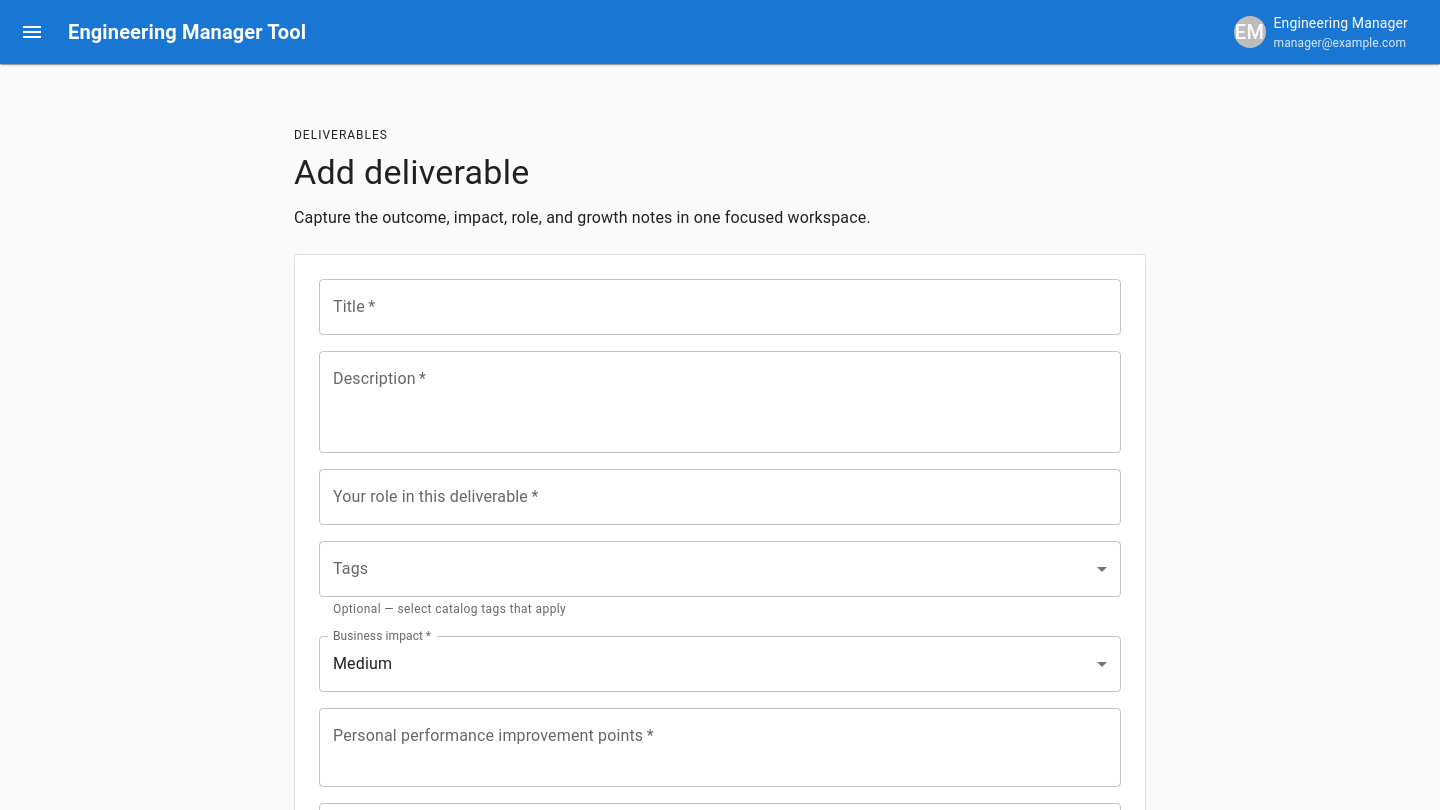
Test: US1 deliverable creation › submits create form and refreshes list
Check: the heading "Add deliverable" is shown, box 294,152 -> 530,192
Type "API redesign" into the field labelled "Title".
click(720, 307); type("API redesign")  # box 319,279 -> 1121,335
Type "Shipped new API" into the text box labelled "Description".
click(720, 402); type("Shipped new API")  # box 333,367 -> 1107,436
Type "Tech lead" into the field labelled "Your role in this deliverable".
click(720, 497); type("Tech lead")  # box 319,469 -> 1121,525
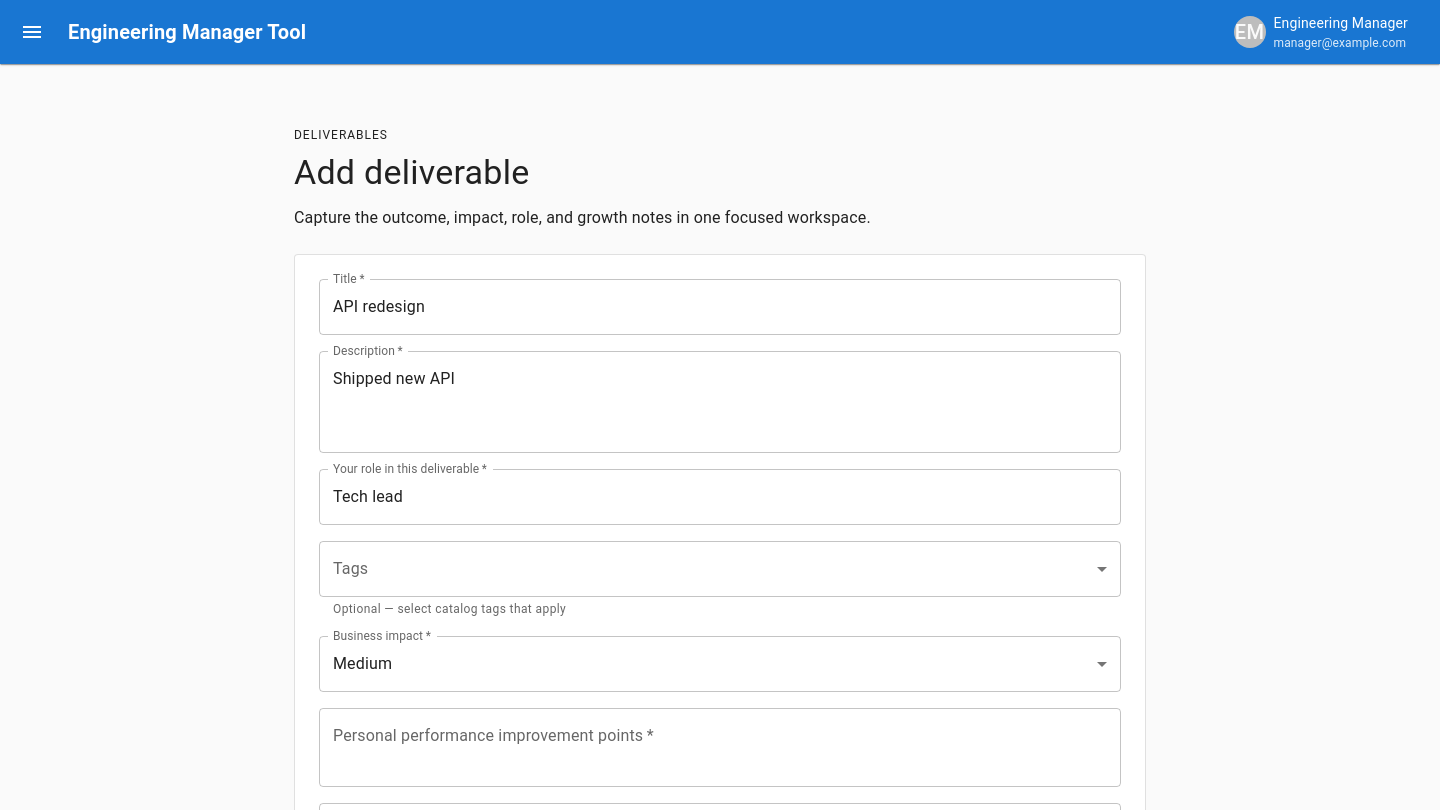
Type "Write more docs" into the text box labelled "Personal performance improvement points".
click(720, 747); type("Write more docs")  # box 333,724 -> 1107,770
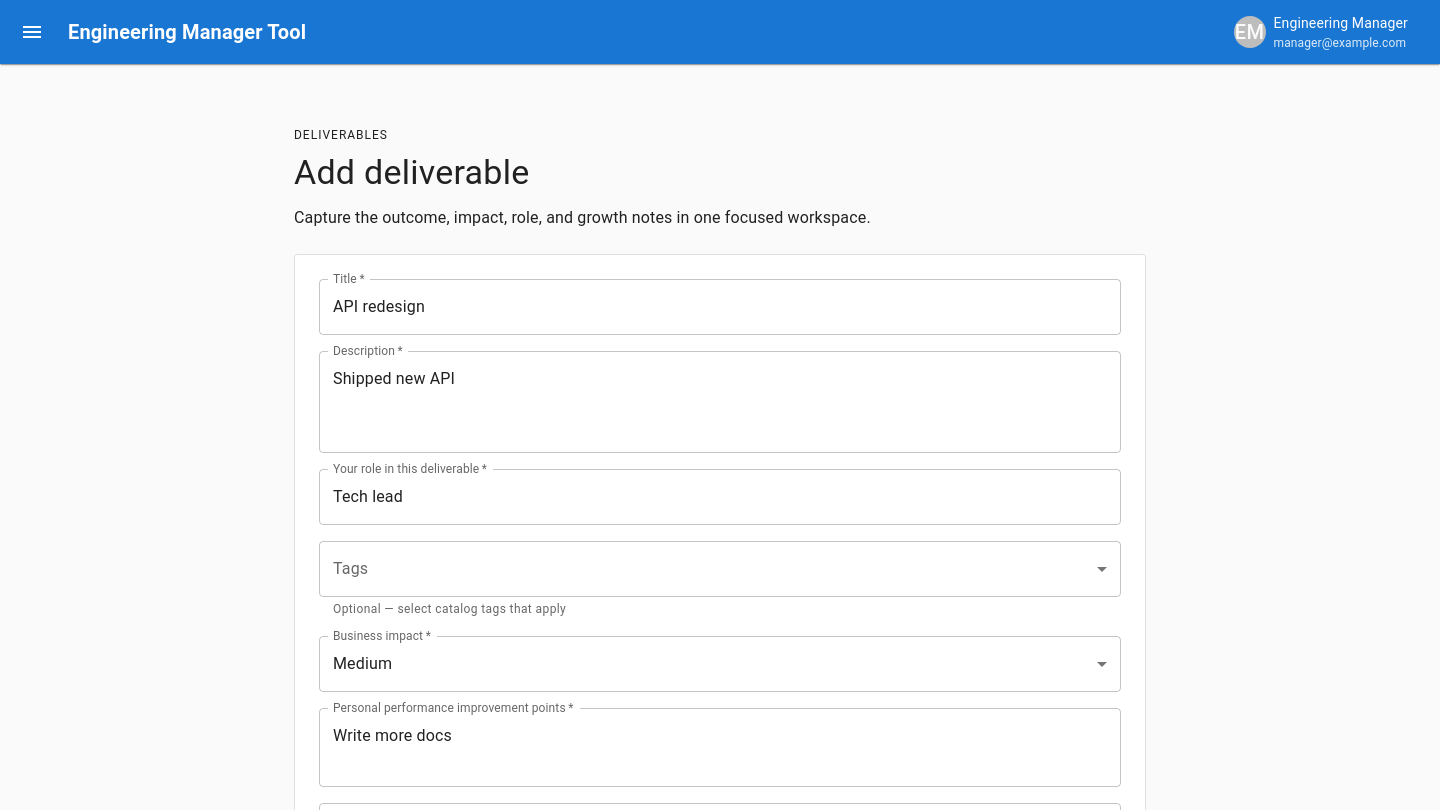
Press the mouse on the dropdown named "Tags" at (720, 569), box 319,541 -> 1121,597
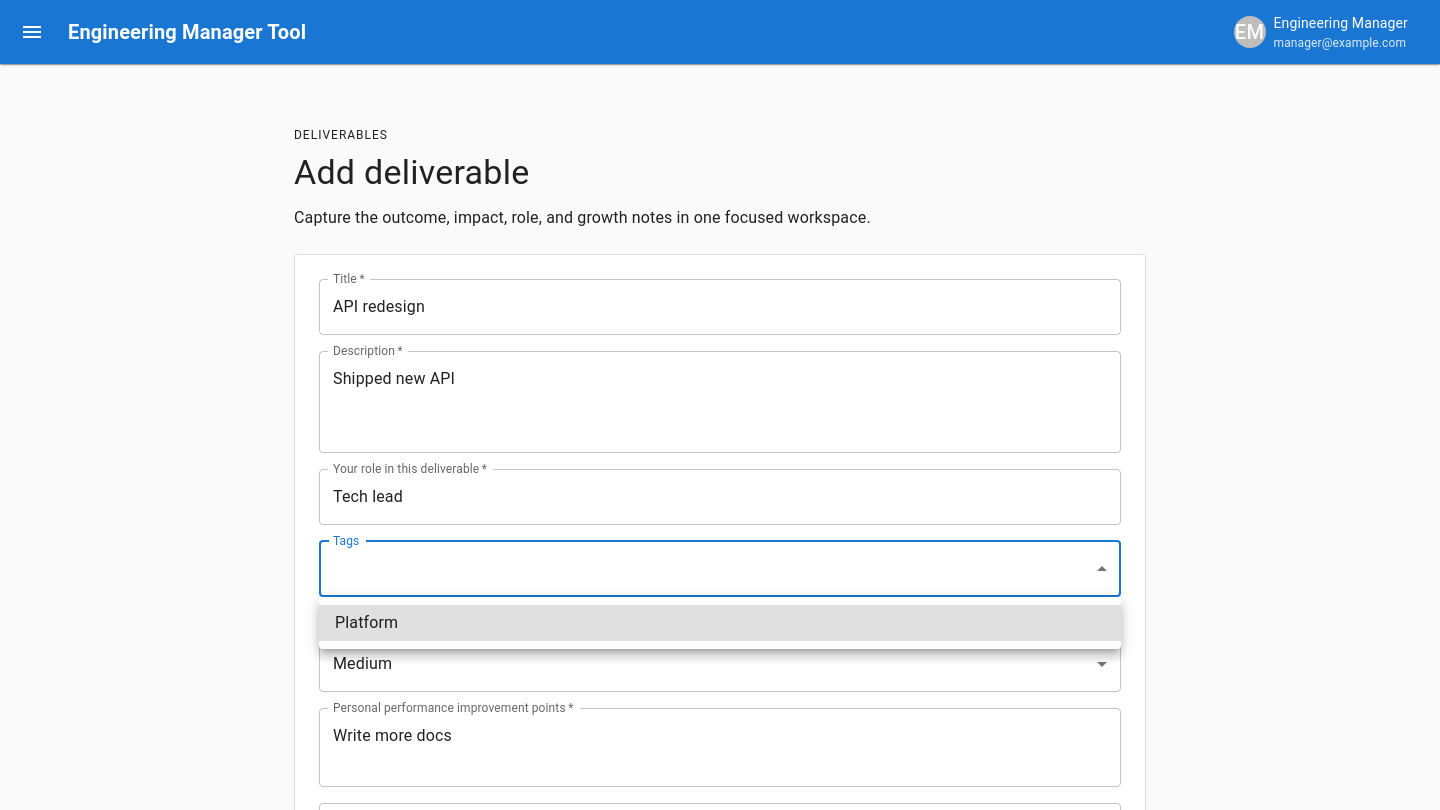
Click the option "Platform".
click(367, 622)  # box 319,605 -> 1121,641
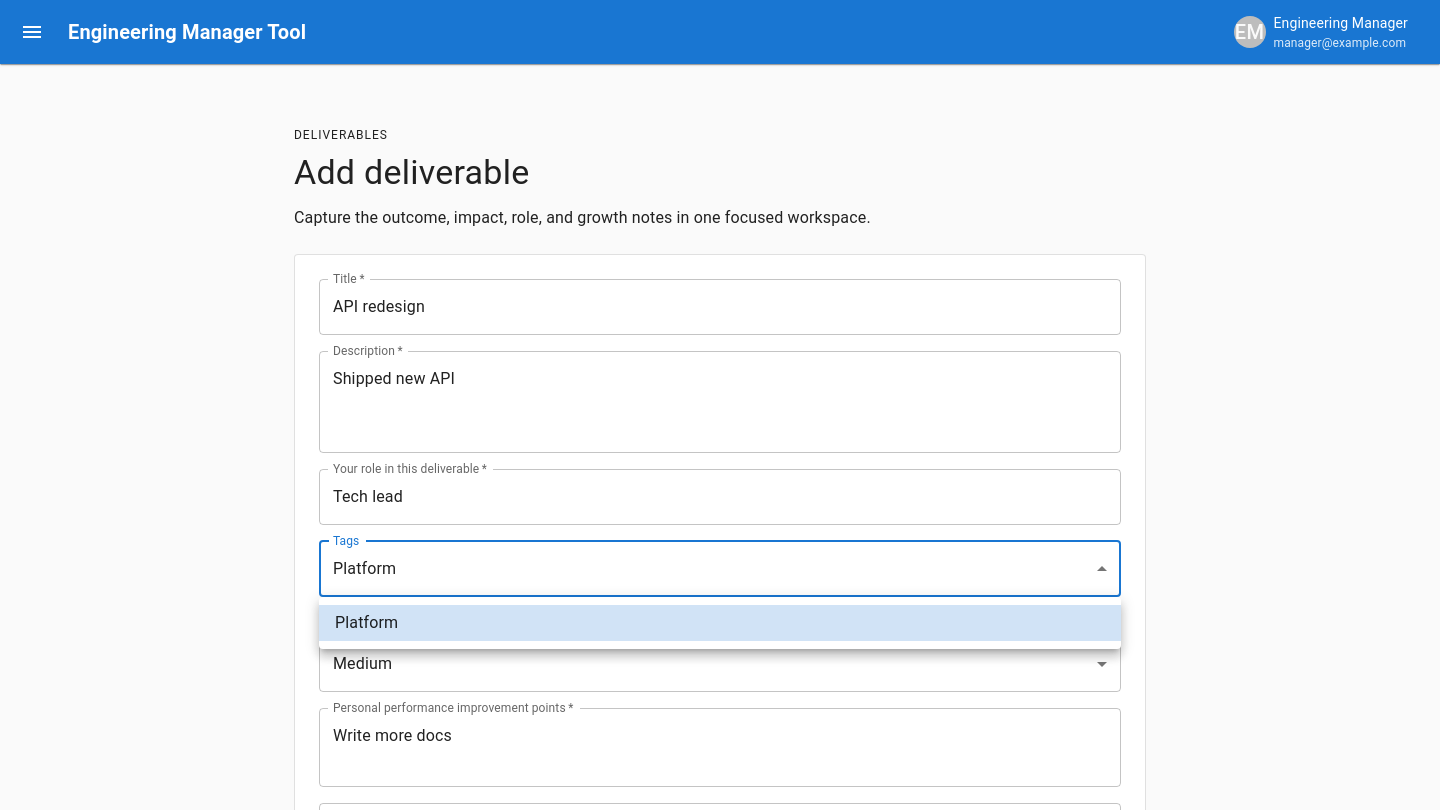
Press Escape
(page scrolled)
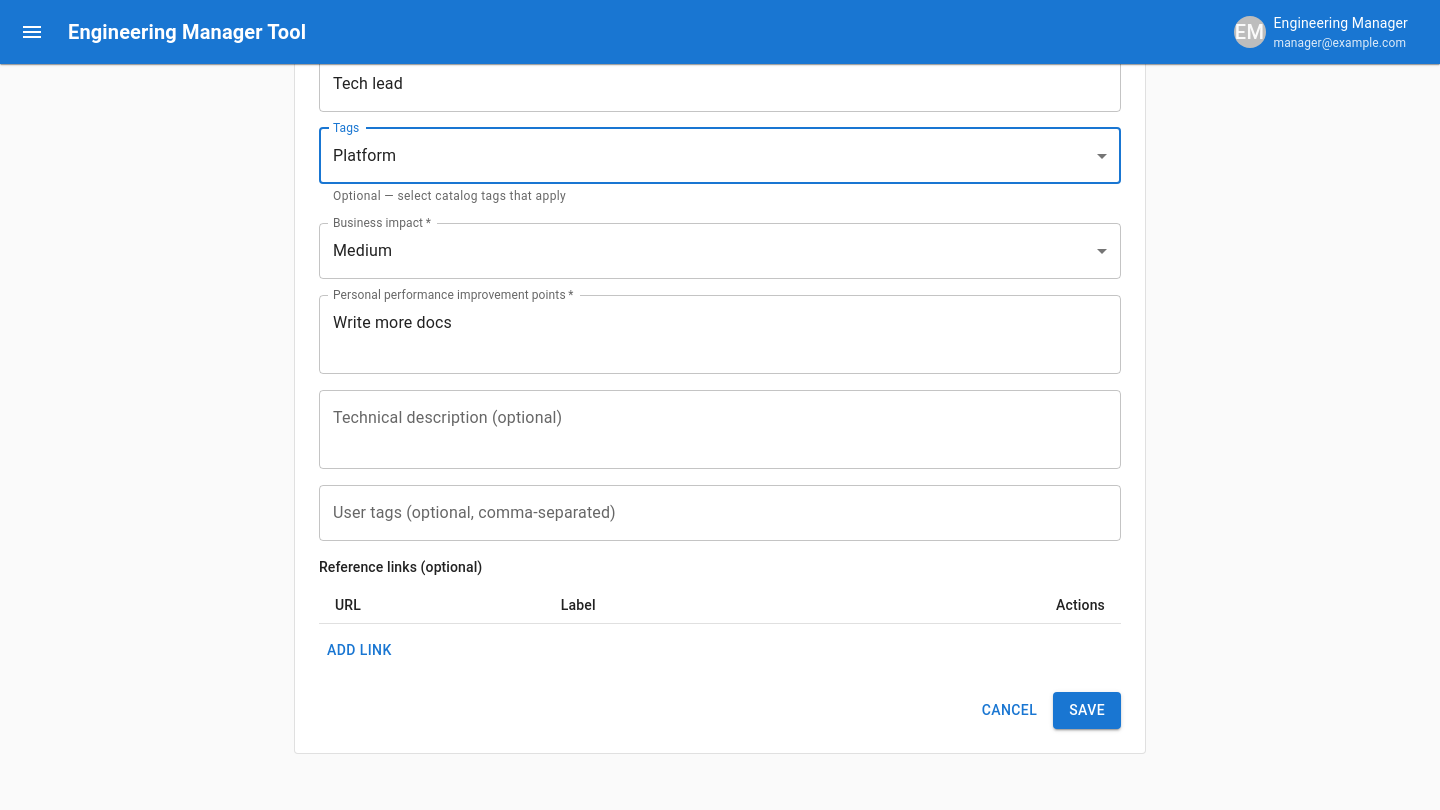
Click the button "Save".
click(1087, 710)  # box 1053,692 -> 1121,729
(page scrolled)
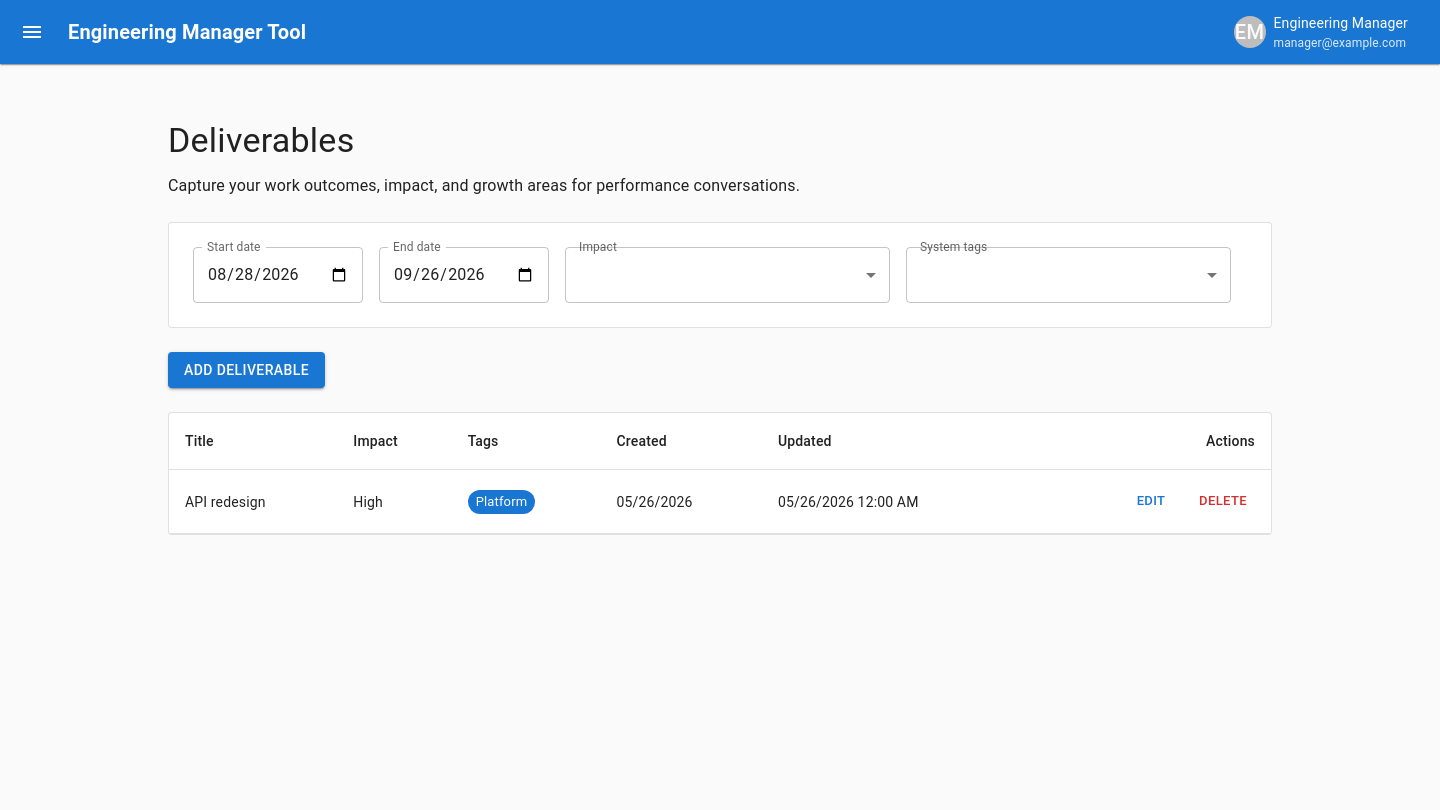
Check: the heading "Deliverables" is shown, box 168,120 -> 354,160
Check: the text "API redesign" is shown, box 169,470 -> 337,534
